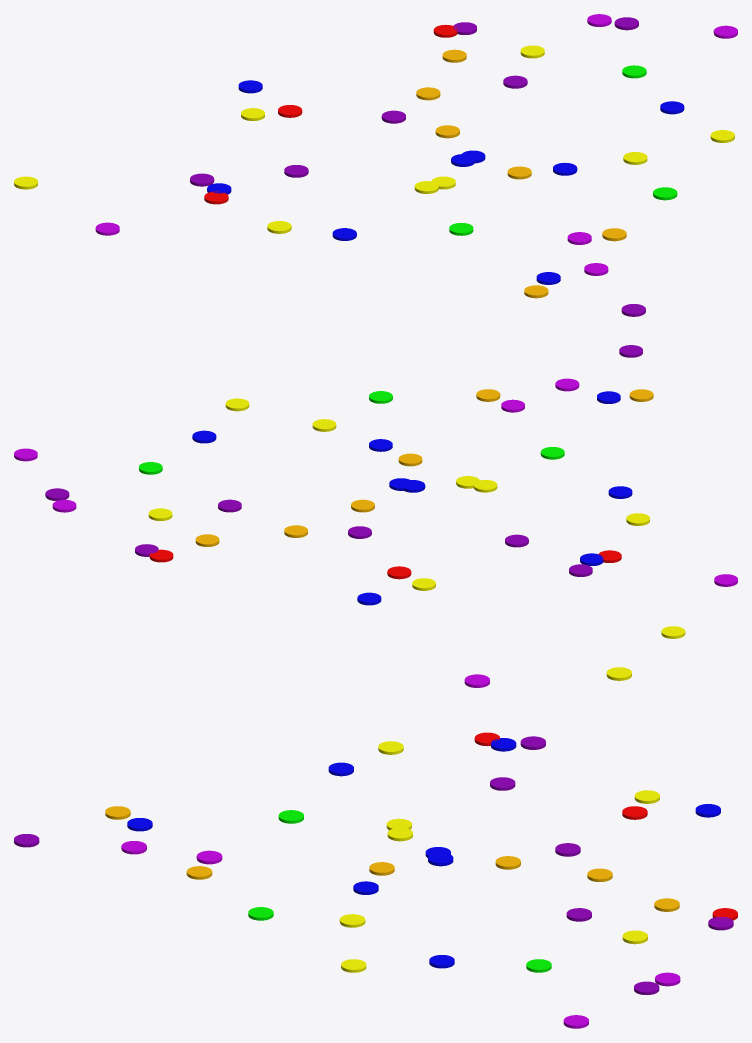
File: rainbow_heart3.glb
3 views of the same model, one above another, from view 1: azimuth 30°, elevation 25°; view 2: azimuth 150°, elevation 25°; view 3: azimuth 270°, elevation 25° (orthographic). The views are drawn at different scales.
Bounding box in the file's own units: 2.67 × 0.01 × 2.28.
